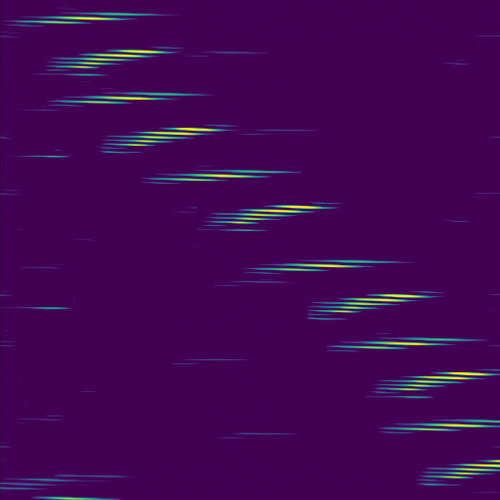semblance: (50, 47, 168, 71), (117, 123, 229, 148), (327, 289, 428, 316), (394, 369, 494, 393), (220, 203, 324, 226), (15, 9, 124, 27), (153, 166, 273, 182), (61, 90, 154, 108), (441, 456, 500, 482), (276, 257, 354, 275), (361, 339, 443, 351), (410, 422, 490, 432)
